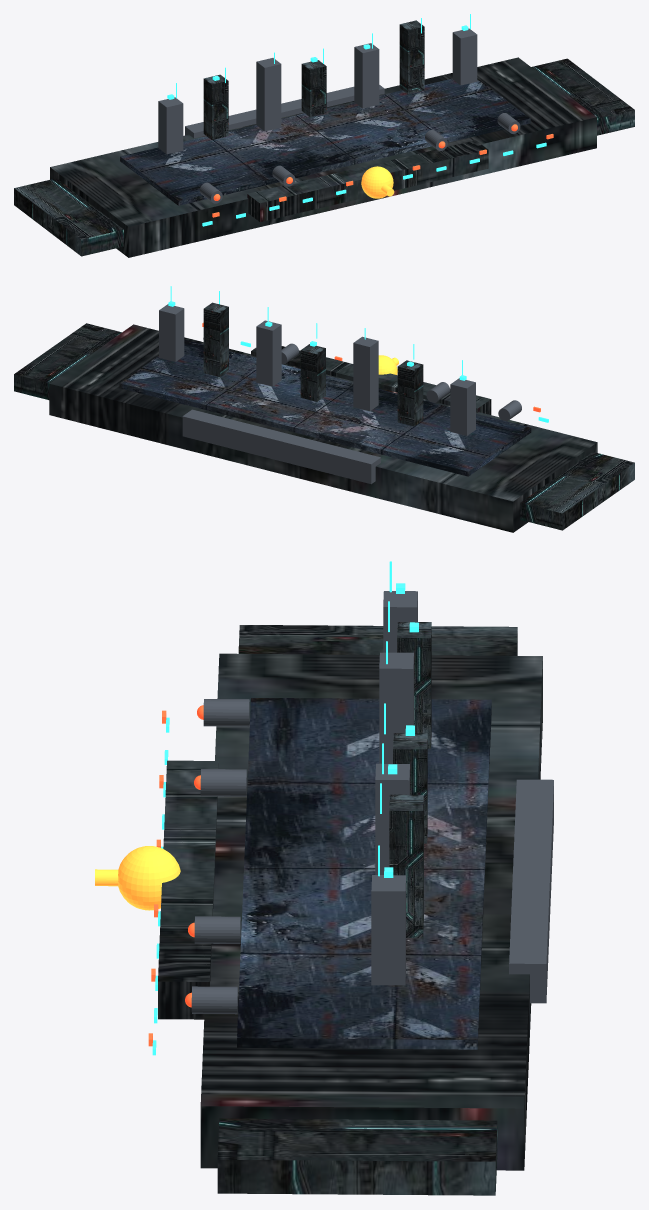
File: boss_dreadnought_leviathan.glb
3 views of the same model, one above another, from view 1: azimuth 30°, elevation 25°; view 2: azimuth 150°, elevation 25°; view 3: azimuth 270°, elevation 25° (orthographic). The views are drawn at different scales.
Parts seen in each view (by area): view 1: MainFlightDeck_PhotoTexture, MainCarrierHull_TexturedRainArmor, ForwardBowArmor_Textured, LeftFlightSponson_Textured, RightFlightSponson_Textured, TexturedCommandTower_02, TexturedCommandTower_05, TexturedCommandTower_01, TexturedCommandTower_04, RearEngineBlock_Textured, TexturedCommandTower_00, TexturedCommandTower_03 (+2 smaller); view 2: MainCarrierHull_TexturedRainArmor, MainFlightDeck_PhotoTexture, RearEngineBlock_Textured, LeftFlightSponson_Textured, RightFlightSponson_Textured, TexturedCommandTower_02, TexturedCommandTower_05, TexturedCommandTower_01, TexturedCommandTower_04, ForwardBowArmor_Textured, TexturedCommandTower_03, TexturedCommandTower_06 (+1 smaller); view 3: MainFlightDeck_PhotoTexture, MainCarrierHull_TexturedRainArmor, RightFlightSponson_Textured, ForwardBowArmor_Textured, RearEngineBlock_Textured, LeftFlightSponson_Textured, TexturedCommandTower_05, TexturedCommandTower_06, TexturedCommandTower_02, LeviathanCoreCannon_Animated, TexturedCommandTower_01, TexturedCommandTower_04 (+6 smaller).
Part boxes in pixels (bbox=[...]): MainFlightDeck_PhotoTexture: bbox=[120, 78, 530, 205]; MainCarrierHull_TexturedRainArmor: bbox=[50, 57, 596, 257]; ForwardBowArmor_Textured: bbox=[247, 140, 488, 221]; LeftFlightSponson_Textured: bbox=[14, 178, 123, 256]; RightFlightSponson_Textured: bbox=[531, 58, 634, 135]; TexturedCommandTower_02: bbox=[256, 58, 281, 131]; TexturedCommandTower_05: bbox=[399, 20, 424, 93]; TexturedCommandTower_01: bbox=[203, 74, 228, 139]; TexturedCommandTower_04: bbox=[354, 43, 379, 108]; RearEngineBlock_Textured: bbox=[185, 85, 384, 138]; TexturedCommandTower_00: bbox=[158, 97, 183, 154]; TexturedCommandTower_03: bbox=[301, 60, 326, 116]; MainCarrierHull_TexturedRainArmor: bbox=[49, 324, 597, 532]; MainFlightDeck_PhotoTexture: bbox=[119, 339, 531, 476]; RearEngineBlock_Textured: bbox=[182, 409, 380, 484]; LeftFlightSponson_Textured: bbox=[520, 452, 634, 530]; RightFlightSponson_Textured: bbox=[14, 323, 121, 399]; TexturedCommandTower_02: bbox=[353, 336, 378, 411]; TexturedCommandTower_05: bbox=[203, 302, 228, 376]; TexturedCommandTower_01: bbox=[397, 360, 423, 426]; TexturedCommandTower_04: bbox=[256, 320, 281, 386]; ForwardBowArmor_Textured: bbox=[251, 346, 491, 414]; TexturedCommandTower_03: bbox=[300, 344, 325, 401]; TexturedCommandTower_06: bbox=[159, 304, 184, 361]; MainFlightDeck_PhotoTexture: bbox=[237, 698, 491, 1049]; MainCarrierHull_TexturedRainArmor: bbox=[200, 653, 542, 1170]; RightFlightSponson_Textured: bbox=[217, 1118, 497, 1195]; ForwardBowArmor_Textured: bbox=[158, 760, 218, 1019]; RearEngineBlock_Textured: bbox=[509, 779, 553, 1003]; LeftFlightSponson_Textured: bbox=[238, 625, 517, 655]; TexturedCommandTower_05: bbox=[389, 794, 423, 938]; TexturedCommandTower_06: bbox=[371, 875, 405, 985]; TexturedCommandTower_02: bbox=[379, 652, 413, 763]; LeviathanCoreCannon_Animated: bbox=[118, 846, 180, 910]; TexturedCommandTower_01: bbox=[397, 622, 431, 748]; TexturedCommandTower_04: bbox=[375, 763, 409, 874].
Size of the model in its own units: 30.61 by 6.85 by 11.06.
Materials: 6 (2 with a texture image).
